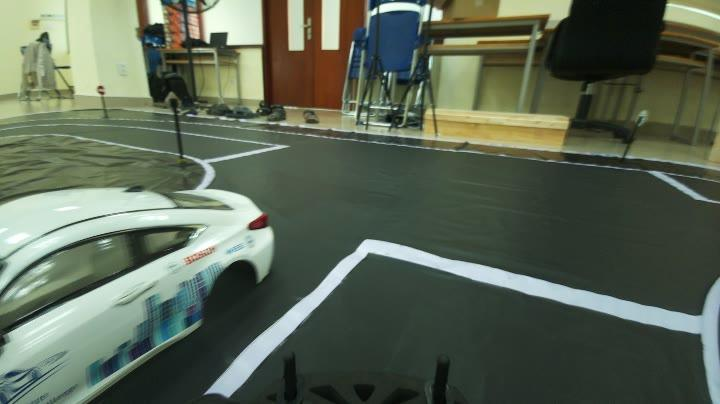car: (4, 187, 270, 391)
